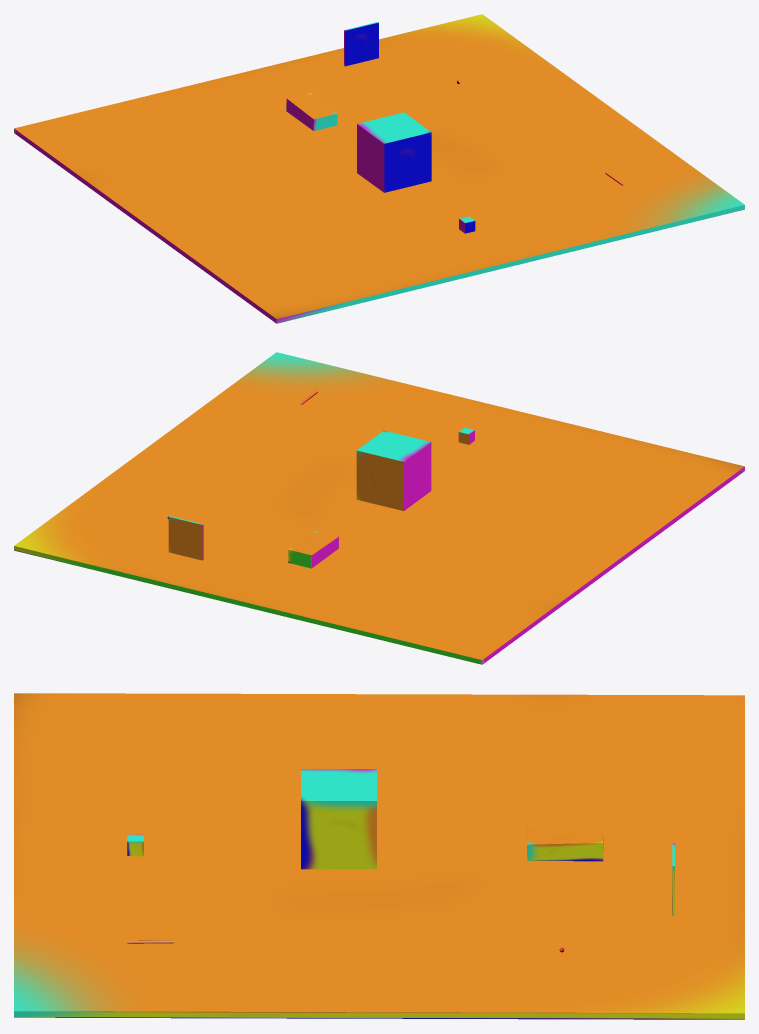
The model's file is targets.gltf.
3 renders of one model, top to bottom at view 1: azimuth 30°, elevation 25°; view 2: azimuth 150°, elevation 25°; view 3: azimuth 270°, elevation 25°, orthographic. The views are drawn at different scales.
Parts seen in each view (by area): view 1: Ground, Cube.001, Cube.003, Target; view 2: Ground, Cube.001, Target, Cube.003; view 3: Ground, Cube.001, Cube.003.
Boxes of the visible parts, x1=… form: Ground: x1=14, y1=14, x2=744, y2=323; Cube.001: x1=357, y1=112, x2=431, y2=192; Cube.003: x1=286, y1=92, x2=337, y2=130; Target: x1=344, y1=22, x2=378, y2=66; Ground: x1=14, y1=352, x2=744, y2=664; Cube.001: x1=356, y1=430, x2=431, y2=510; Target: x1=168, y1=516, x2=203, y2=560; Cube.003: x1=288, y1=531, x2=338, y2=568; Ground: x1=14, y1=693, x2=744, y2=1019; Cube.001: x1=301, y1=769, x2=376, y2=869; Cube.003: x1=527, y1=827, x2=603, y2=861.
Bounding box in the file's own units: 19.8 × 2.21 × 19.23.
2 materials, 2 textured.
